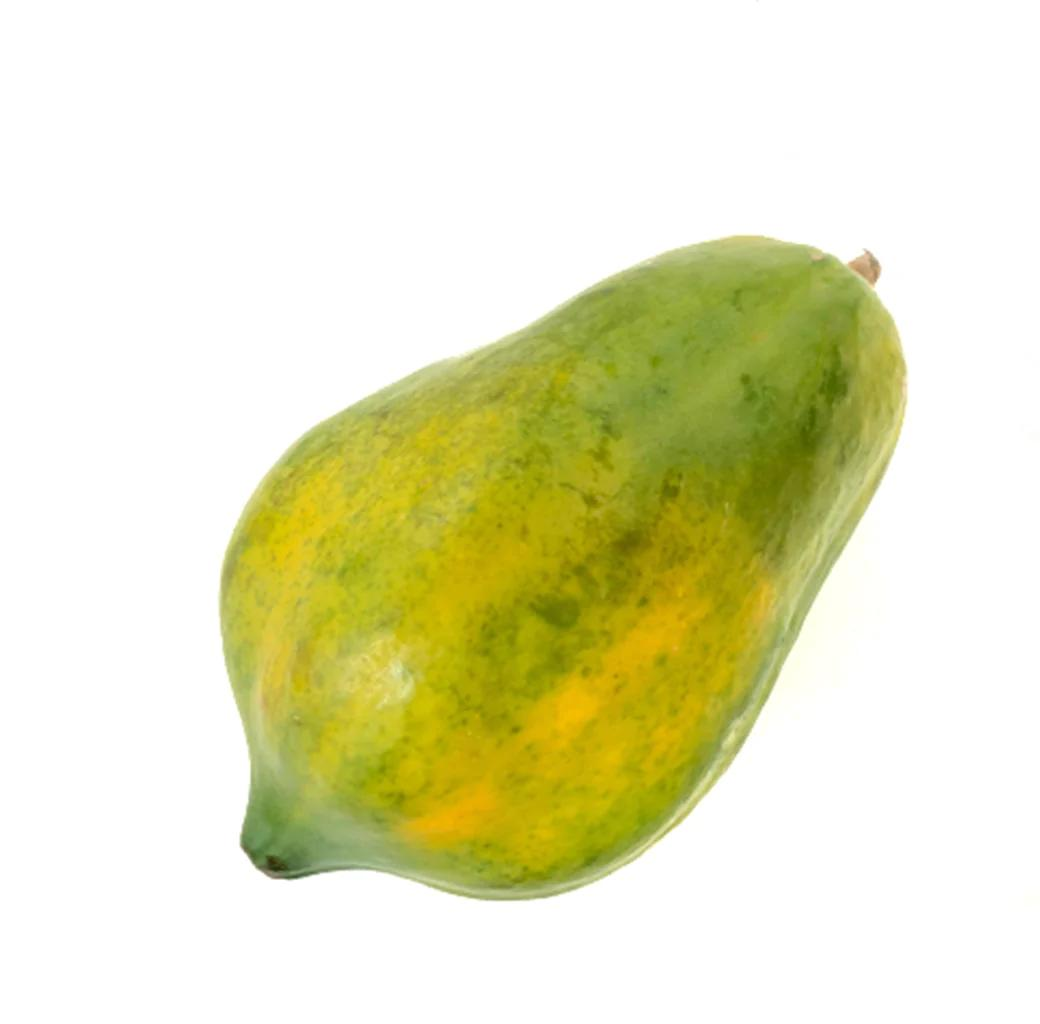organic: (221, 236, 904, 897)
